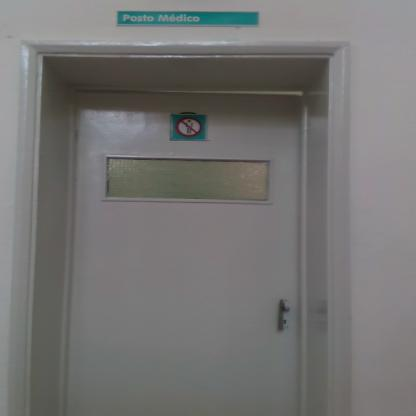door: (70, 92, 310, 416)
